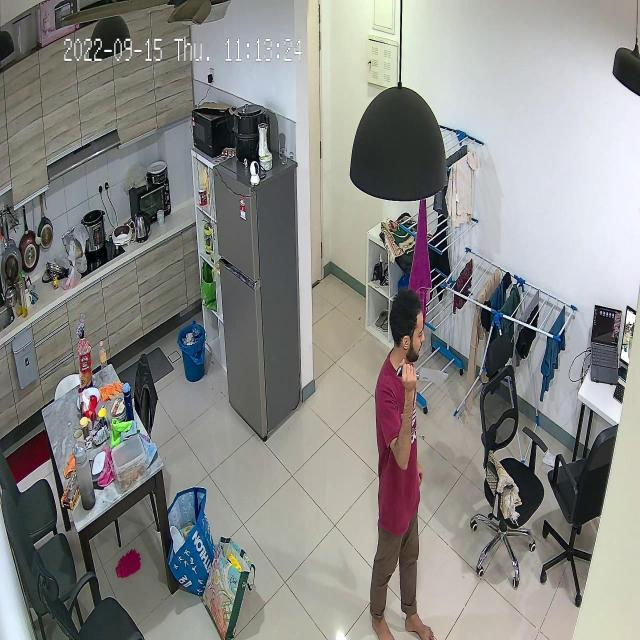Knife: (396, 356, 456, 388)
